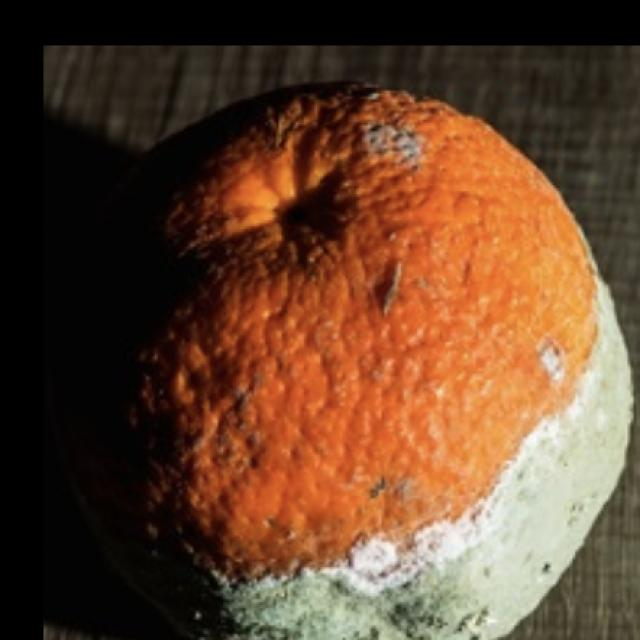sangat_busuk: (100, 79, 637, 638)
